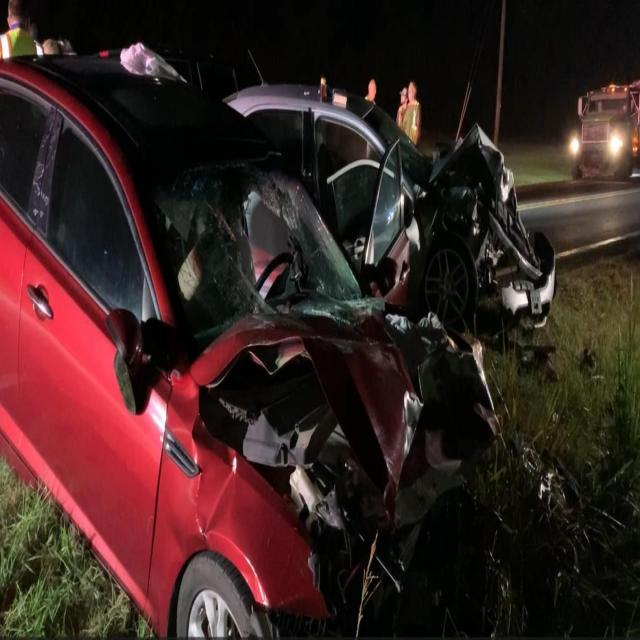Accident: (0, 41, 559, 640)
